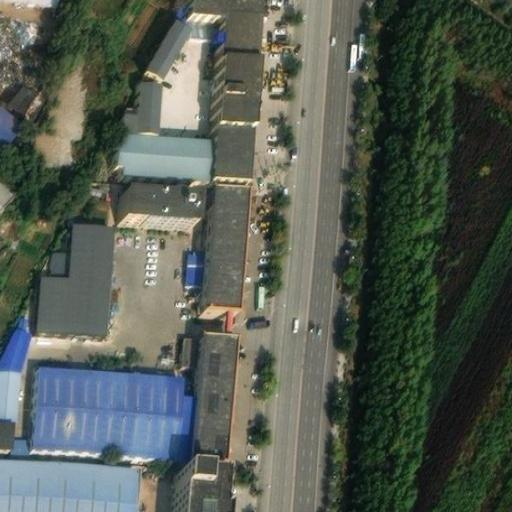building: (32, 359, 194, 454), (35, 214, 116, 328), (207, 14, 259, 182), (189, 325, 236, 461), (200, 179, 248, 304), (112, 131, 210, 179), (141, 15, 188, 77), (10, 59, 61, 113), (123, 179, 199, 215), (184, 458, 230, 512), (120, 80, 159, 134), (0, 319, 31, 366), (186, 0, 260, 17), (45, 242, 73, 270), (0, 105, 20, 143), (185, 245, 204, 279), (0, 173, 15, 211), (182, 331, 198, 361), (11, 430, 33, 449)
